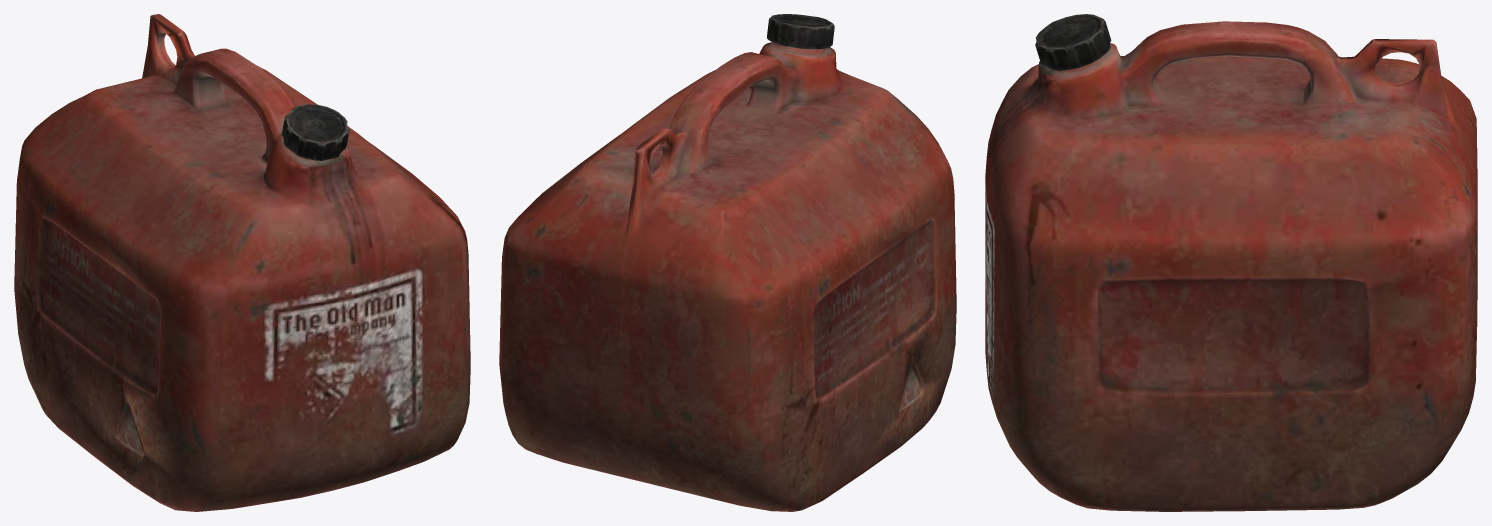
The model's file is jerryPlastic.glb.
The picture shows the model from 3 angles, left to right: view 1: azimuth 30°, elevation 25°; view 2: azimuth 150°, elevation 25°; view 3: azimuth 270°, elevation 25°; orthographic projection. The views are drawn at different scales.
Visible parts, largest first — view 1: plastic_jerrycan; view 2: plastic_jerrycan; view 3: plastic_jerrycan.
Boxes of the visible parts, <box> form: plastic_jerrycan: <box>14,14,470,511</box>; plastic_jerrycan: <box>499,14,956,511</box>; plastic_jerrycan: <box>985,14,1477,511</box>.
Bounding box in the file's own units: 0.2679 × 0.3184 × 0.3404.
1 material, 1 textured.
